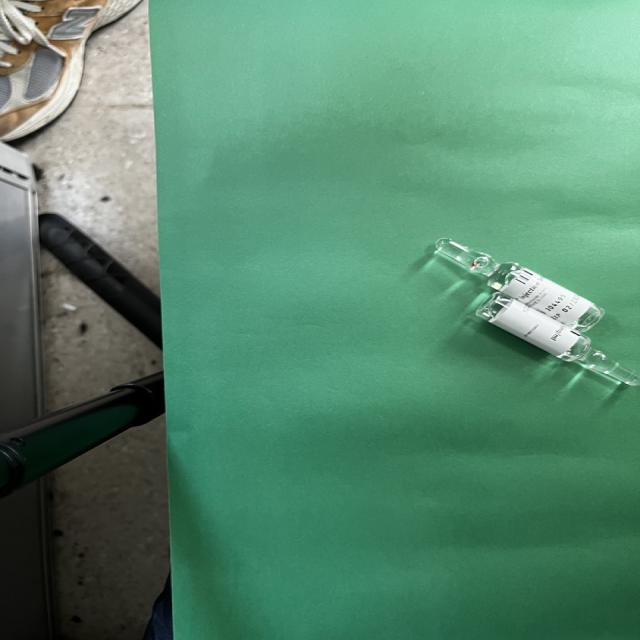Ampoules: (435, 238, 605, 332), (475, 292, 640, 386)
